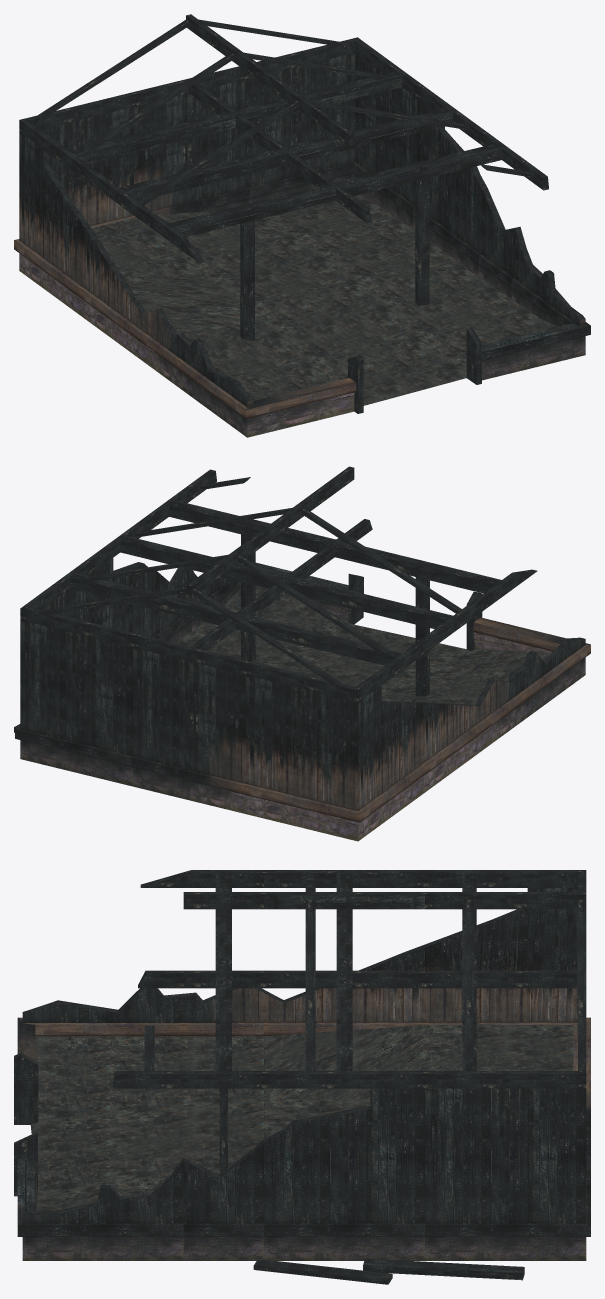
Rendered from burned_out_stable_from_fps_creator_classic.glb.
The picture shows the model from 3 angles, top to bottom: view 1: azimuth 30°, elevation 25°; view 2: azimuth 150°, elevation 25°; view 3: azimuth 270°, elevation 25°; orthographic projection. The views are drawn at different scales.
Parts seen in each view (by area): view 1: burned_out_stable; view 2: burned_out_stable; view 3: burned_out_stable.
Boxes of the visible parts, x1,y1,x2,y2 form: burned_out_stable: [14, 14, 590, 437]; burned_out_stable: [14, 466, 590, 841]; burned_out_stable: [14, 870, 590, 1284].
Bounding box in the file's own units: 8.44 × 4.54 × 8.94.
Materials: 1 (1 with a texture image).
